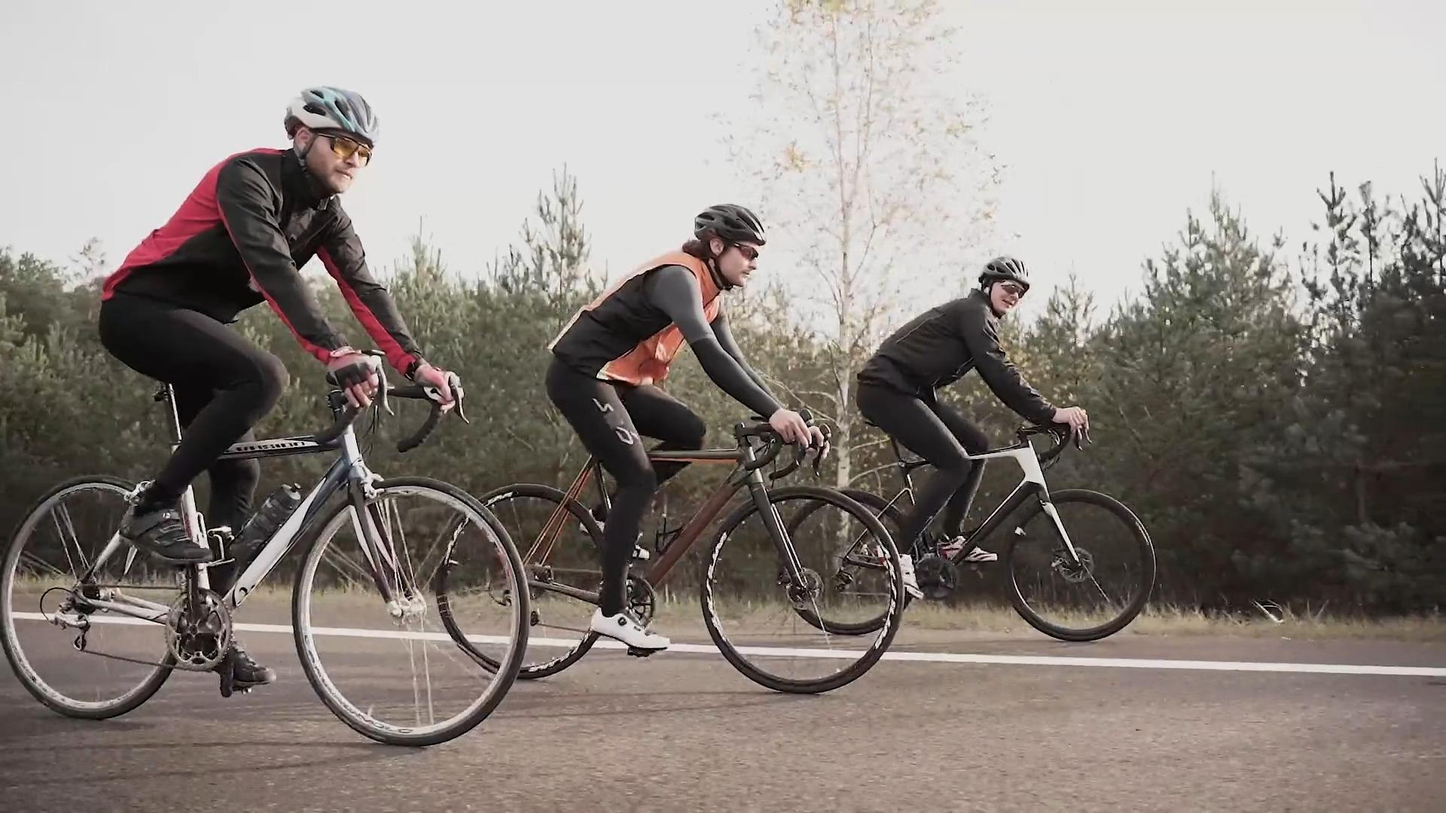bicyclist: (1, 84, 527, 747), (433, 202, 904, 693), (779, 255, 1157, 643)
helmet: (284, 85, 379, 193), (694, 204, 768, 287), (978, 256, 1030, 315)
